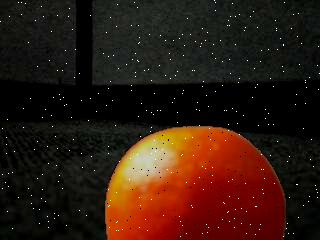Orange: (104, 126, 286, 240)
